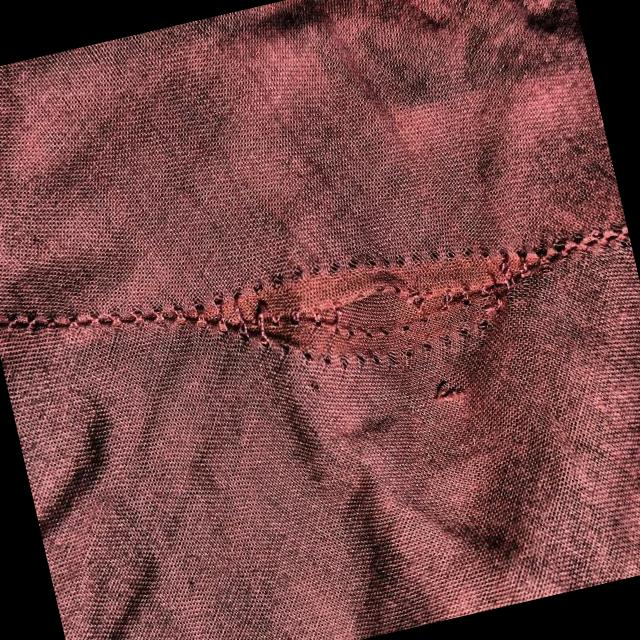gray stitch: (199, 194, 576, 412)
